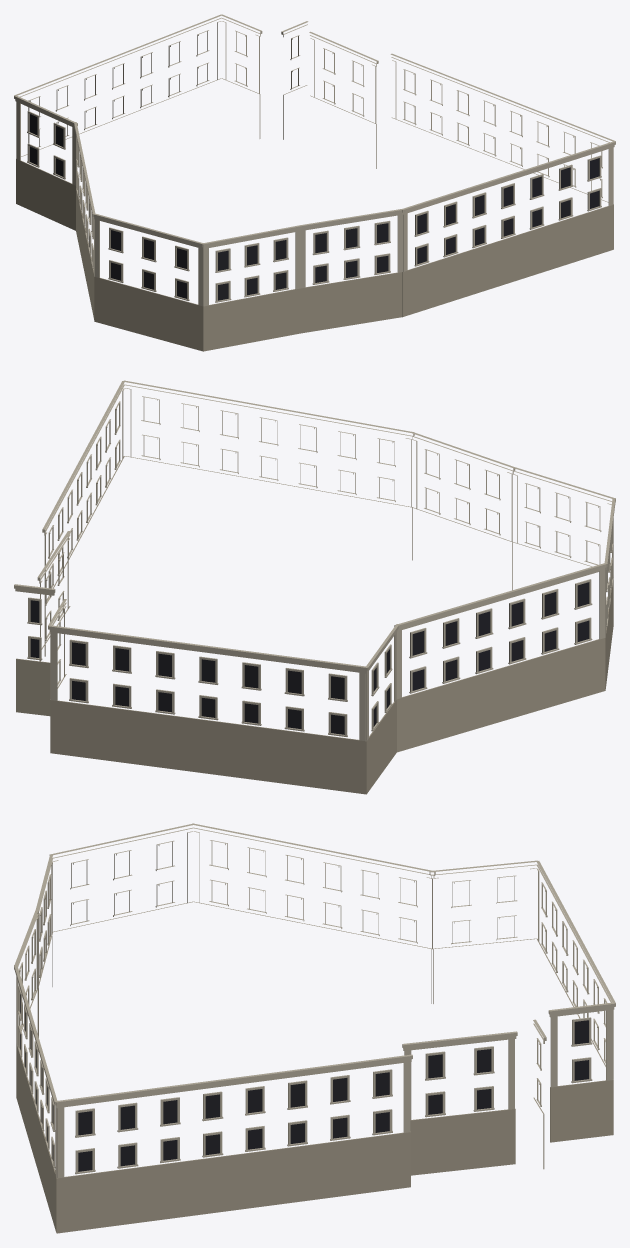
3 renders of one model, top to bottom at view 1: azimuth 30°, elevation 25°; view 2: azimuth 150°, elevation 25°; view 3: azimuth 270°, elevation 25°, orthographic. The views are drawn at different scales.
Parts seen in each view (by area): view 1: detail; view 2: detail; view 3: detail.
Boxes of the visible parts, left/top/right/bottom form: detail: left=14, top=14, right=615, bottom=351; detail: left=14, top=380, right=615, bottom=794; detail: left=14, top=823, right=615, bottom=1233.
Size of the model in its own units: 54.08 by 11.95 by 49.32.
